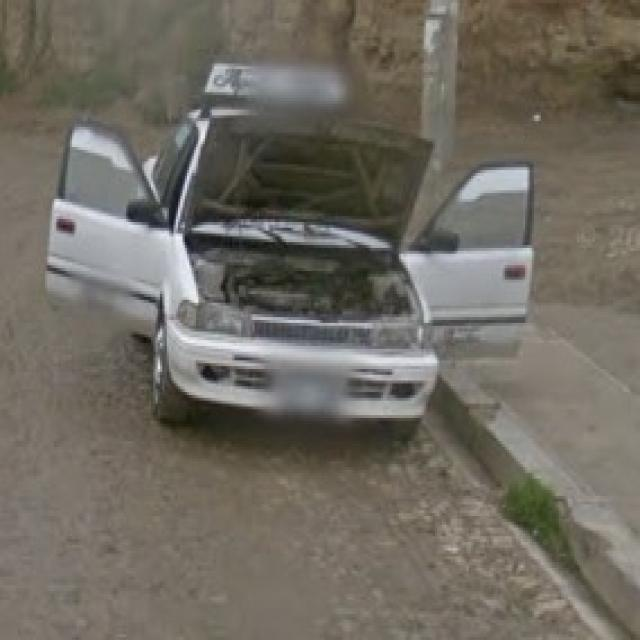cars: (58, 56, 538, 440)
